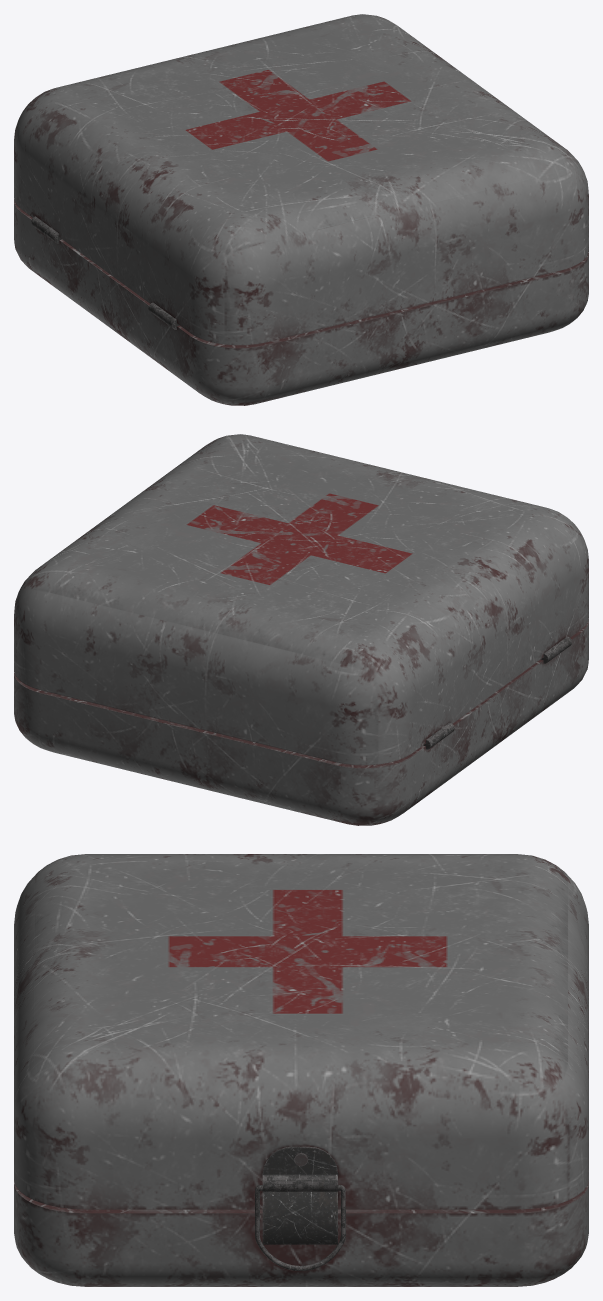
The picture shows the model from 3 angles, top to bottom: view 1: azimuth 30°, elevation 25°; view 2: azimuth 150°, elevation 25°; view 3: azimuth 270°, elevation 25°; orthographic projection. The views are drawn at different scales.
Bounding box in the file's own units: 2.07 × 0.8985 × 2.
3 materials, 3 textured.
